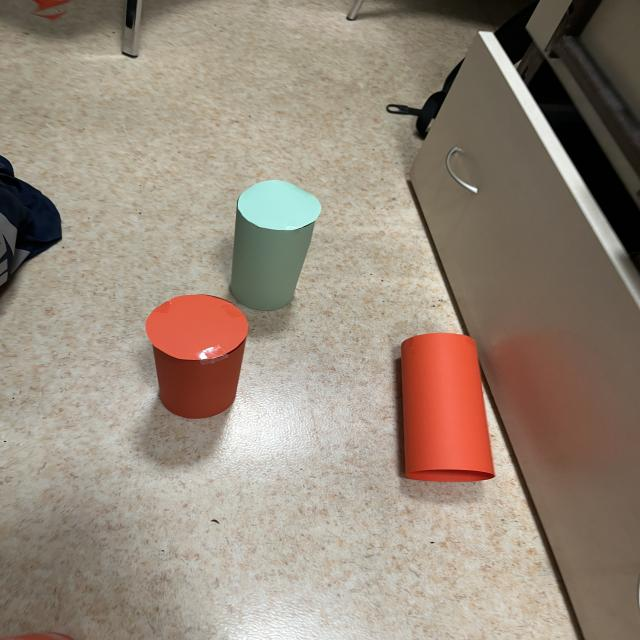meta: (230, 180, 321, 310)
przeszkoda: (401, 333, 494, 481), (146, 295, 248, 418)
